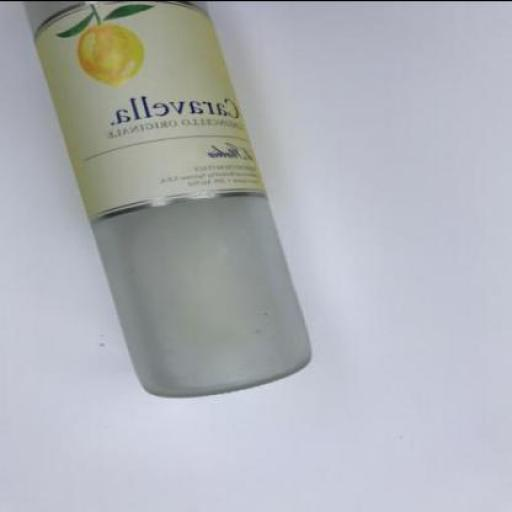glass: (24, 1, 314, 397)
